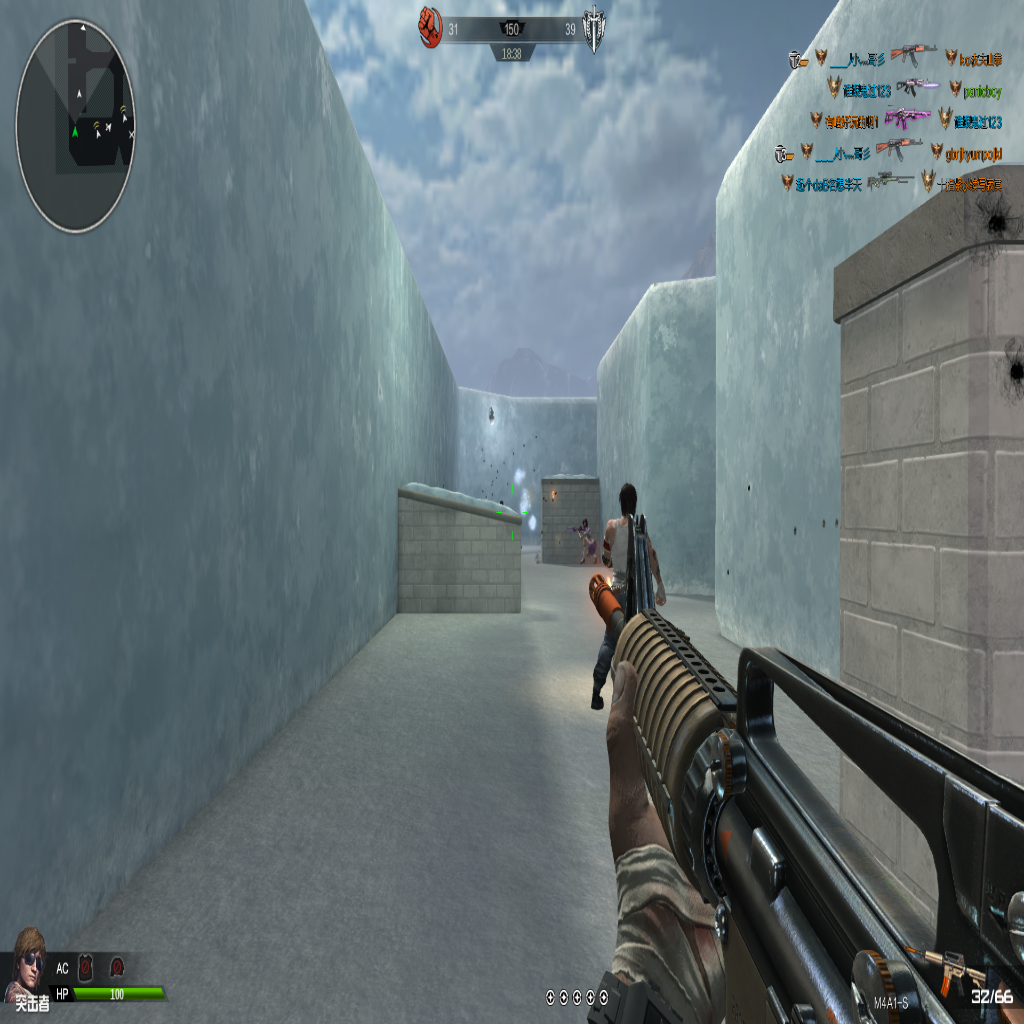tt: (603, 493, 636, 603)
